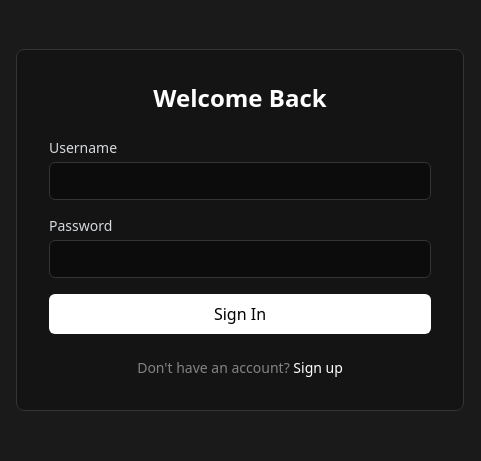
TestLoginPage › displays error message when registration fails
The image size is (481, 461).
Switch to register mode
Click the button "Sign up" at (318, 368), box [293, 358, 343, 378]
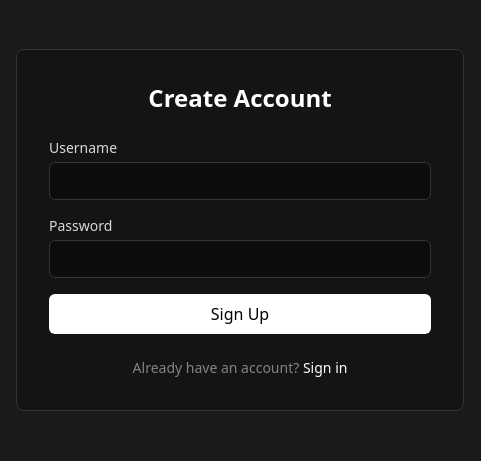
Fill in the form
Type "existinguser" into the field labelled "Username" at (240, 181), box [49, 162, 431, 200]
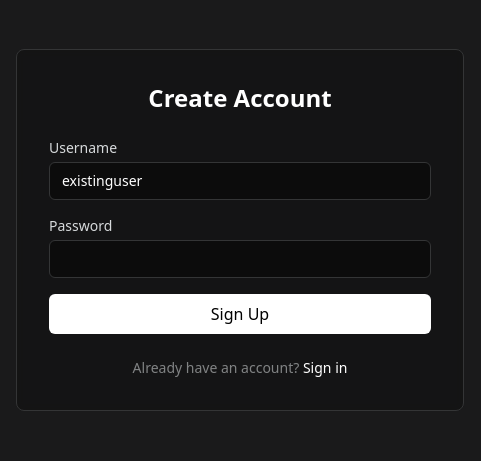
Type "password123" into the password field labelled "Password" at (240, 259), box [49, 240, 431, 278]
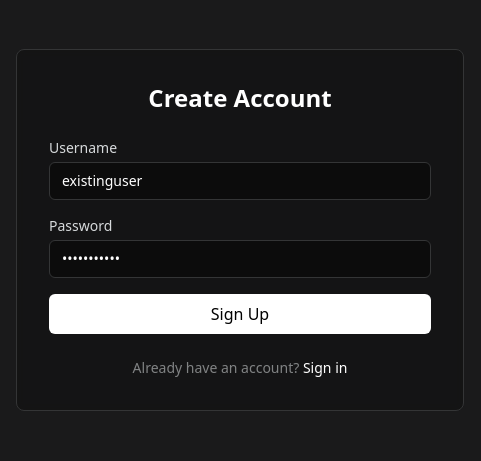
Submit the form
Click the button "Sign Up" at (240, 314), box [49, 294, 431, 334]
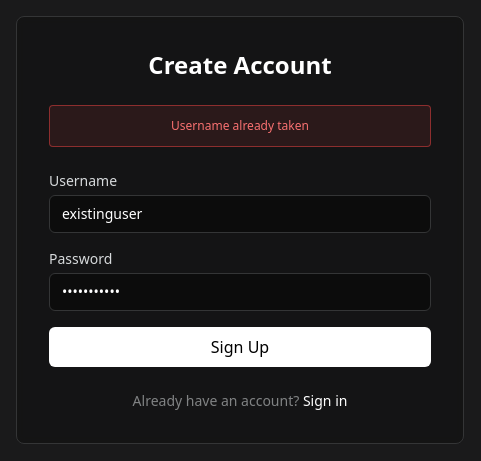
Check: the text "Username already taken" is shown, box [49, 105, 431, 147]
